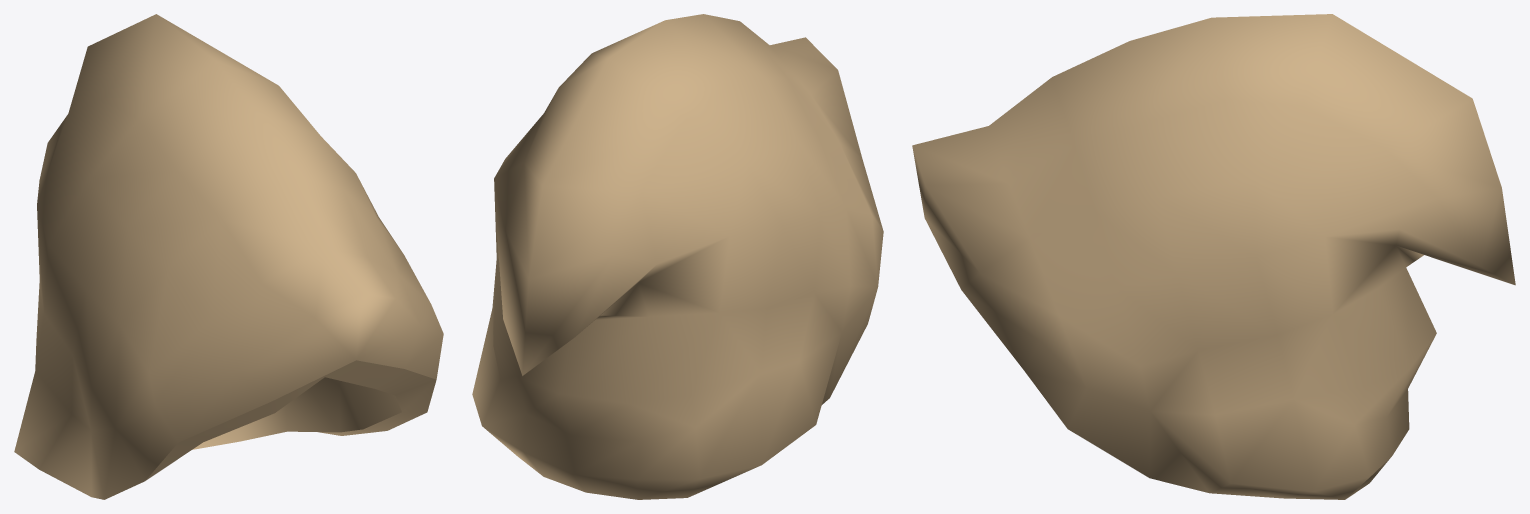
File: Headgear_33.fbx
3 renders of one model, left to right at view 1: azimuth 30°, elevation 25°; view 2: azimuth 150°, elevation 25°; view 3: azimuth 270°, elevation 25°, orthographic. The views are drawn at different scales.
Parts seen in each view (by area): view 1: Headgear_33; view 2: Headgear_33; view 3: Headgear_33.
Boxes of the visible parts, x1,y1,x2,y2 form: Headgear_33: (14,14,443,499); Headgear_33: (472,14,883,499); Headgear_33: (912,14,1515,499).
Size of the model in its own units: 57.96 by 72.31 by 88.84.
